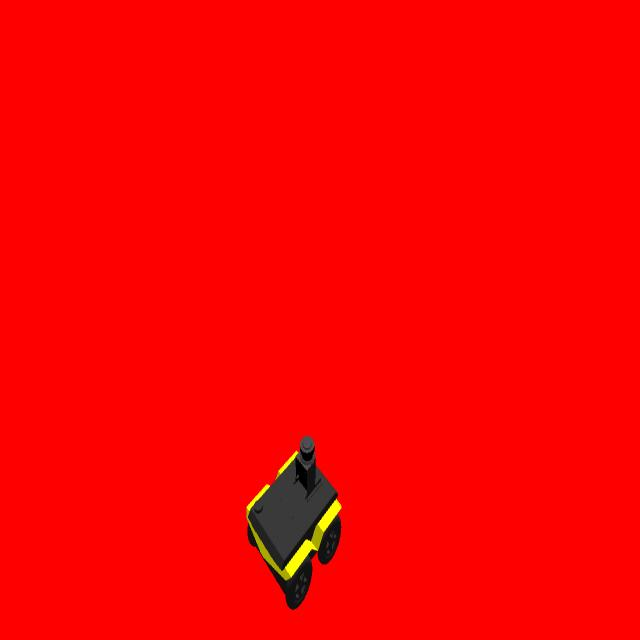jackal: (247, 435, 342, 609)
